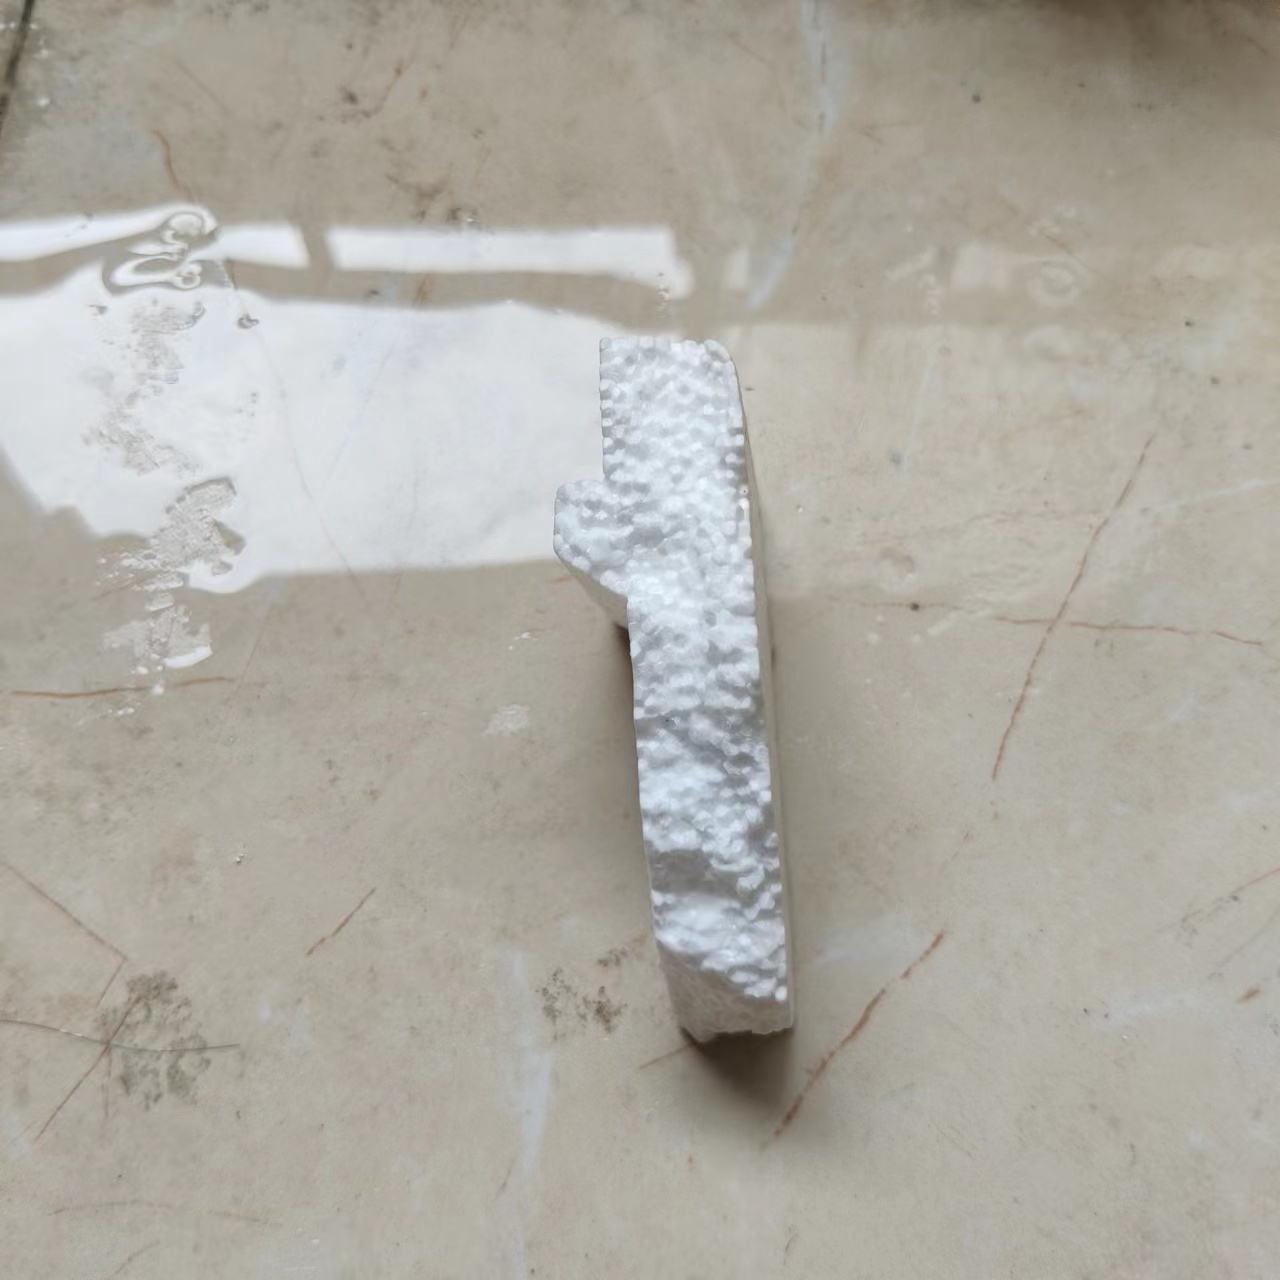5/可回收垃圾/泡沫: (554, 338, 799, 1049)
